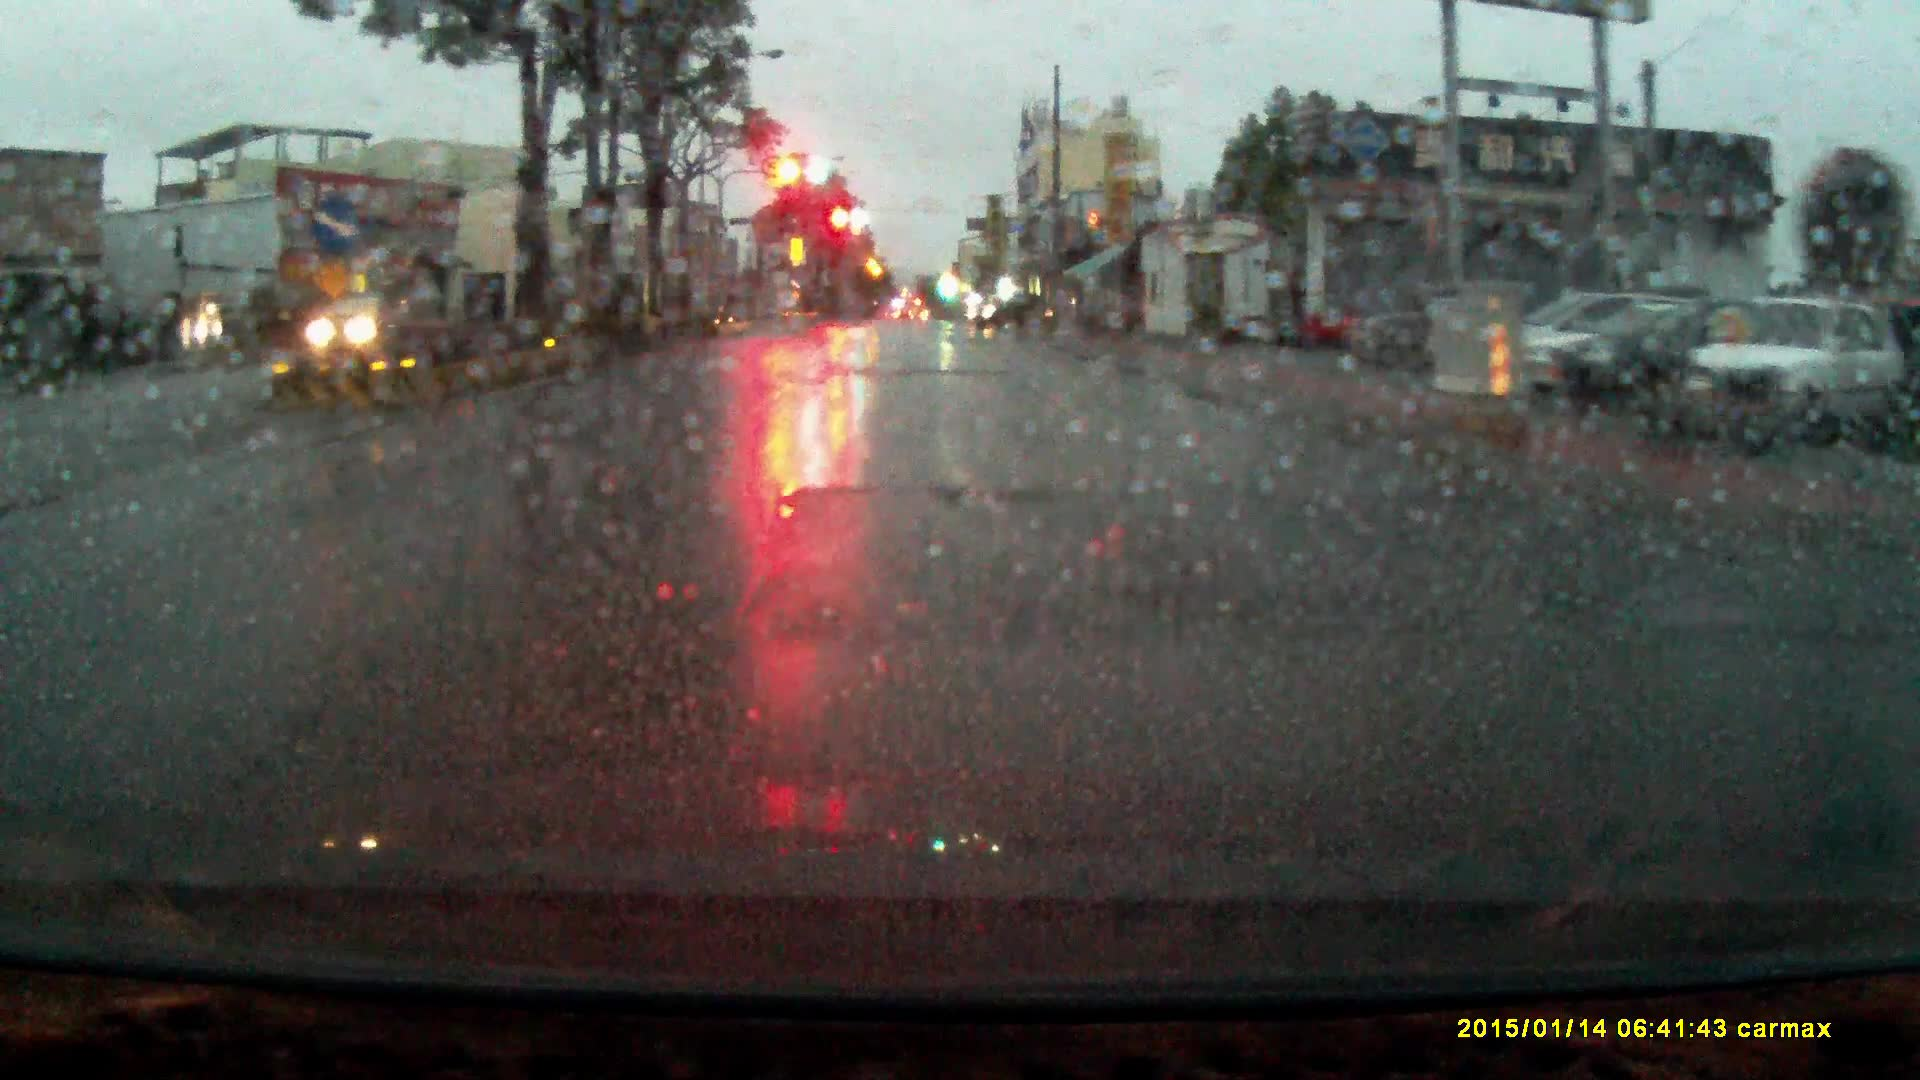vehicle: (1663, 297, 1902, 433), (1534, 298, 1755, 407), (1527, 295, 1716, 392), (307, 295, 409, 360), (967, 291, 1044, 328)
